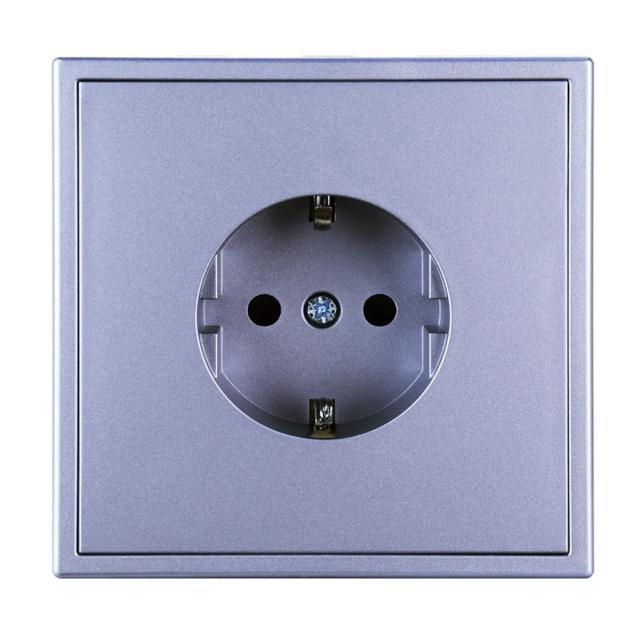typeb: (34, 41, 619, 597)
